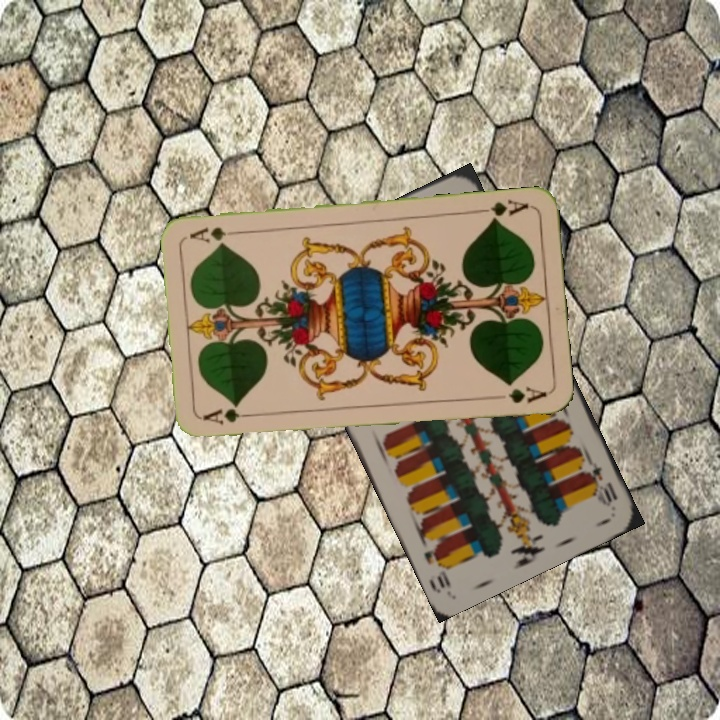E10: (580, 455, 621, 510)
GA: (473, 195, 531, 224), (199, 405, 258, 428)
